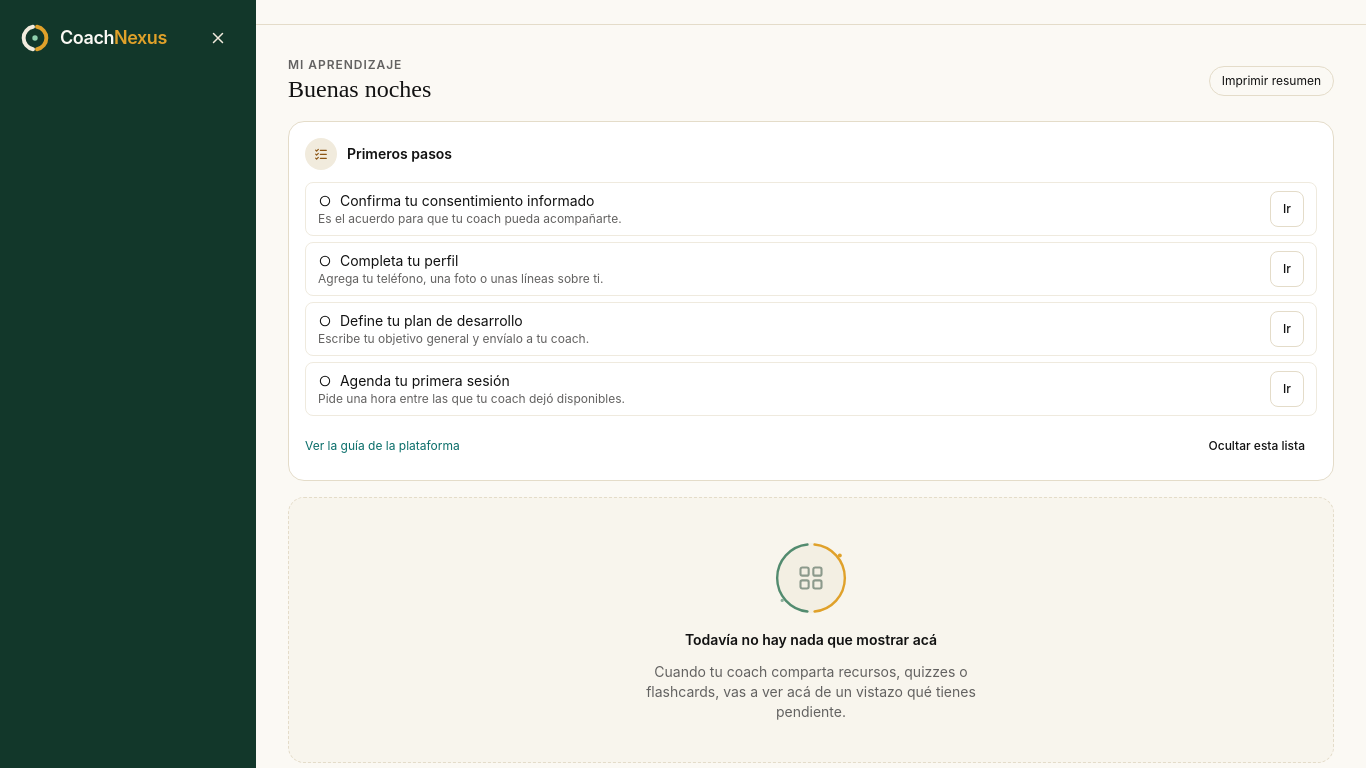
Test: MiAprendizajeView › shows the "Primeros pasos" checklist from real data and lets the coachee dismiss it
Expected: the link to "/guia-coachee" is shown, left=305, top=438, right=460, bottom=454
Click the button "Ocultar esta lista".
click(1257, 446)  # box left=1196, top=428, right=1317, bottom=464
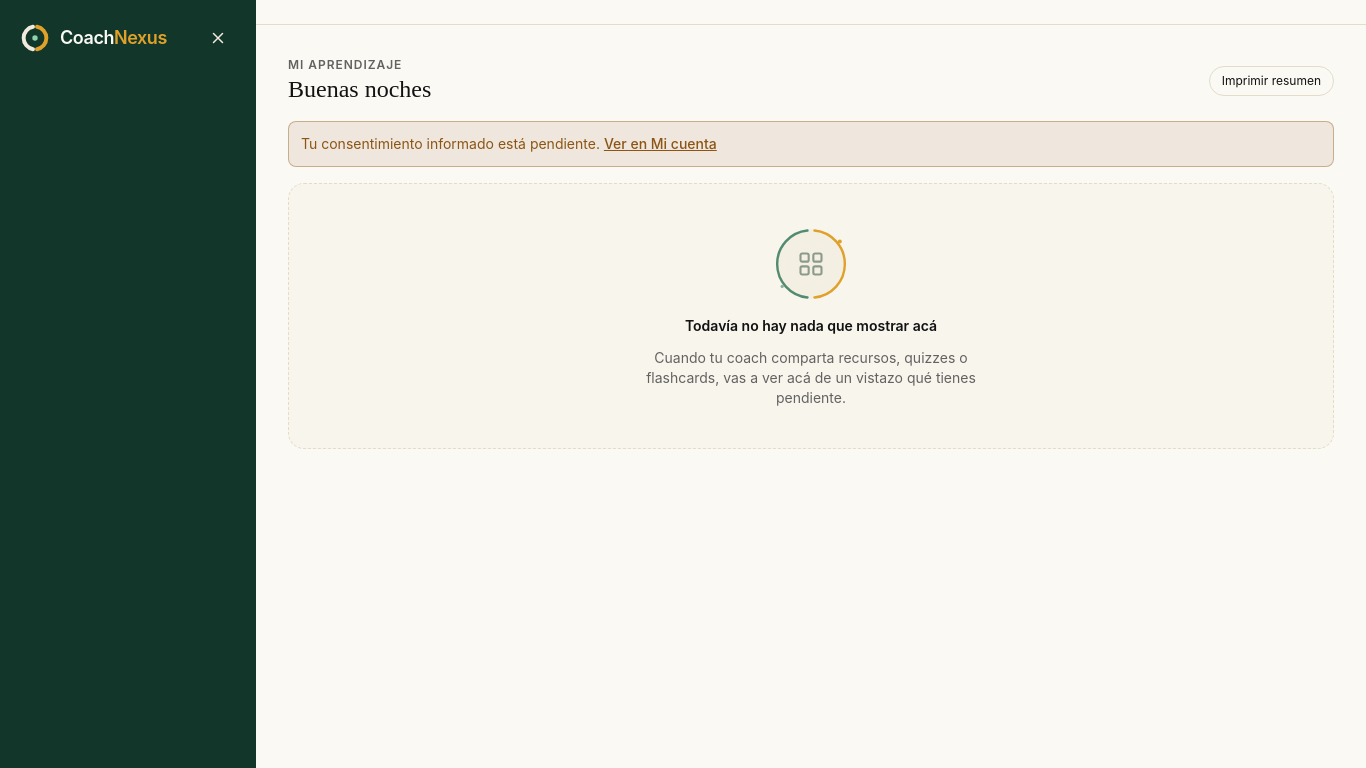
Now the text "Primeros pasos" is gone
